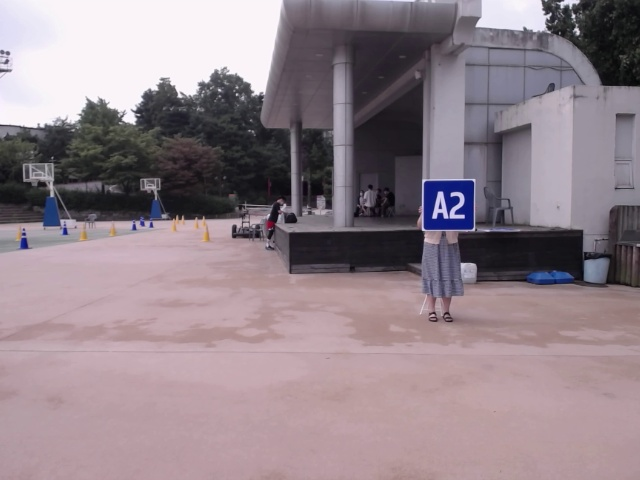delivery_a2: (423, 179, 475, 231)
